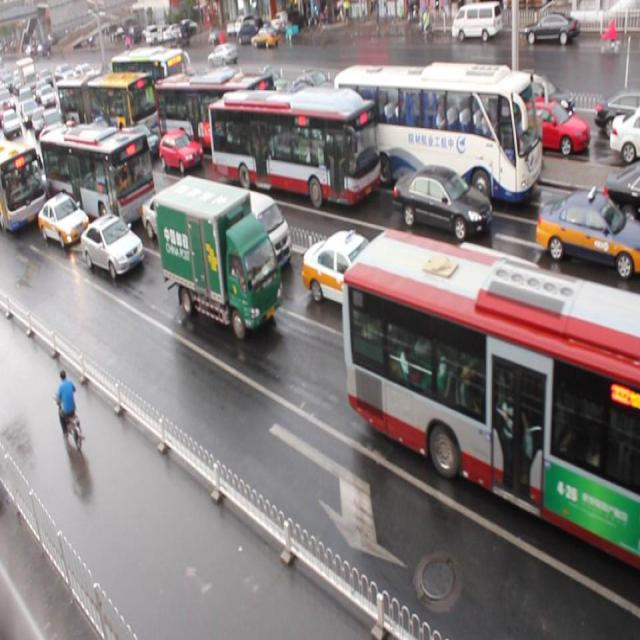bus: (153, 175, 283, 339)
car: (300, 228, 404, 321), (535, 188, 640, 280), (392, 163, 490, 240), (141, 185, 208, 250), (82, 212, 144, 276), (36, 187, 88, 243), (602, 159, 640, 232), (159, 128, 202, 172), (116, 123, 160, 164)
truck: (440, 240, 568, 386), (216, 186, 292, 276)
van: (341, 228, 640, 568), (334, 66, 541, 204), (208, 87, 380, 205), (38, 121, 156, 232), (154, 70, 274, 160), (58, 71, 158, 132), (1, 134, 46, 226)
